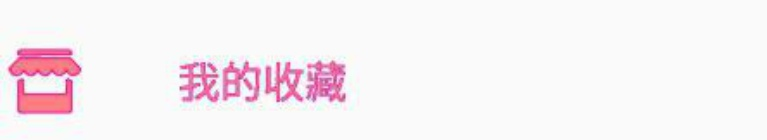CheckedTextView: (1, 1, 766, 139)
